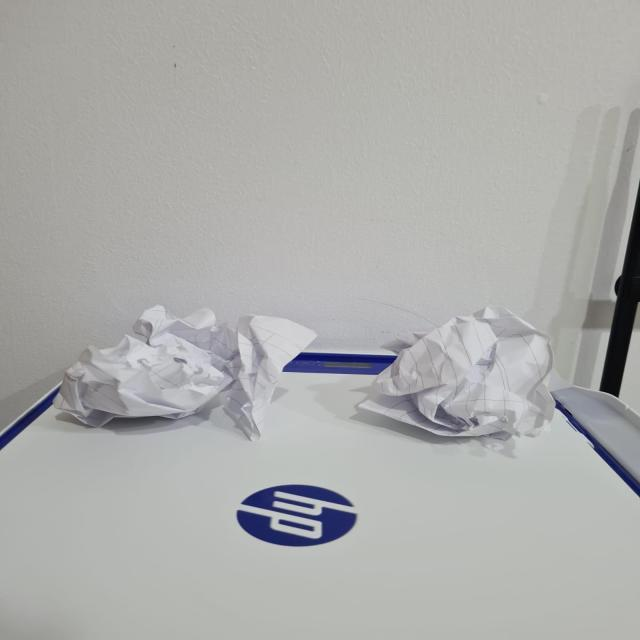cardboard paper: (54, 305, 314, 438), (357, 306, 552, 434)
